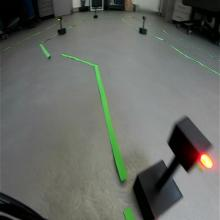red: (169, 115, 214, 178)
